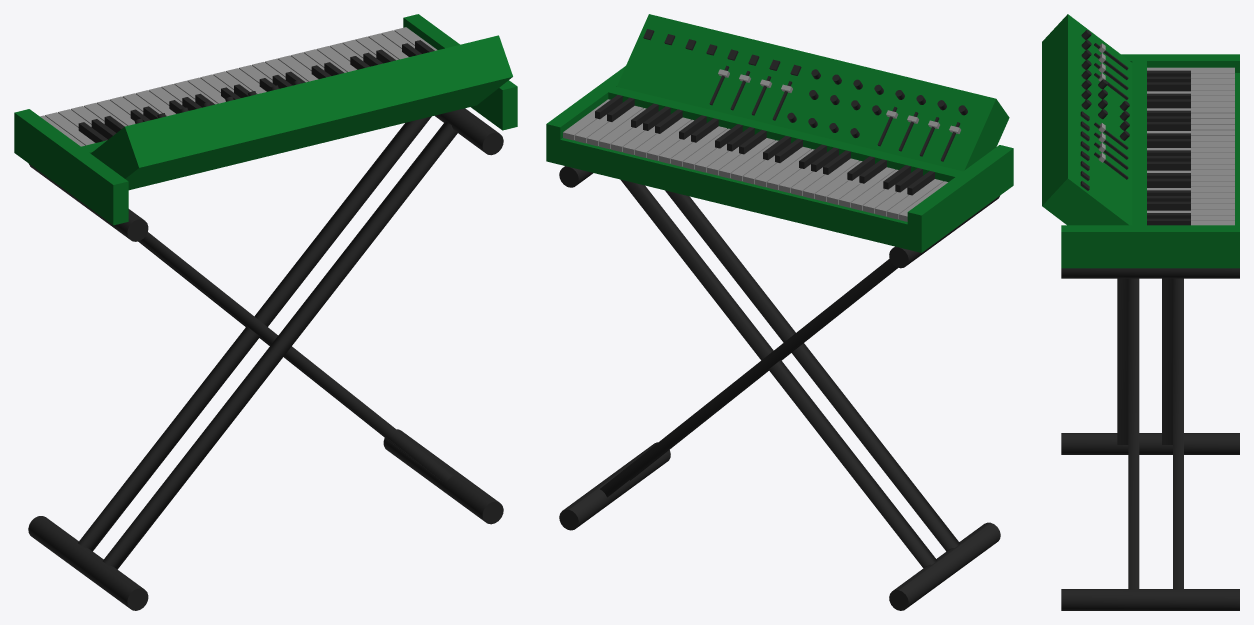
The model's file is Synthesizers.glb.
3 views of the same model, side by side, from view 1: azimuth 30°, elevation 25°; view 2: azimuth 150°, elevation 25°; view 3: azimuth 270°, elevation 25° (orthographic). The views are drawn at different scales.
Visible parts, largest first — view 1: Floor, Spline (×3), Cube (×2), Cylinder (×4); view 2: Floor, Cube (×4), Spline (×3), Cylinder (×3); view 3: Cube (×31), Floor, Spline (×4), Cylinder (×3).
Part boxes in pixels (box(x1,y1,x2,y2)): Floor: box(90, 35, 512, 190); Spline (×3): box(78, 116, 457, 569); Cube (×2): box(14, 14, 517, 225); Cylinder (×4): box(28, 108, 503, 610); Floor: box(616, 14, 1009, 171); Cube (×4): box(546, 66, 1013, 252); Spline (×3): box(600, 179, 960, 567); Cylinder (×3): box(559, 196, 1000, 610); Cube (×31): box(1061, 54, 1239, 268); Floor: box(1042, 14, 1132, 225); Spline (×4): box(1117, 278, 1183, 589); Cylinder (×3): box(1061, 268, 1239, 610).
Bounding box in the file's own units: 0.8595 × 0.9828 × 0.4044.
